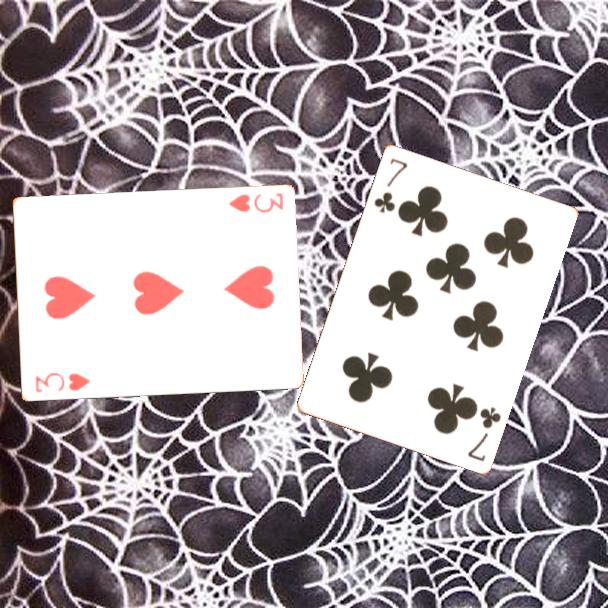c07: (370, 154, 410, 216), (464, 403, 504, 464)
h03: (32, 369, 93, 396), (225, 190, 286, 216)
